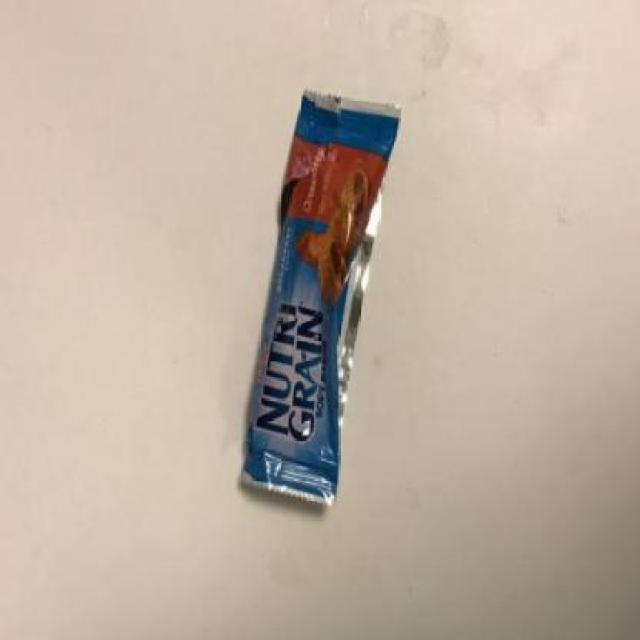nhua: (238, 95, 402, 505)
